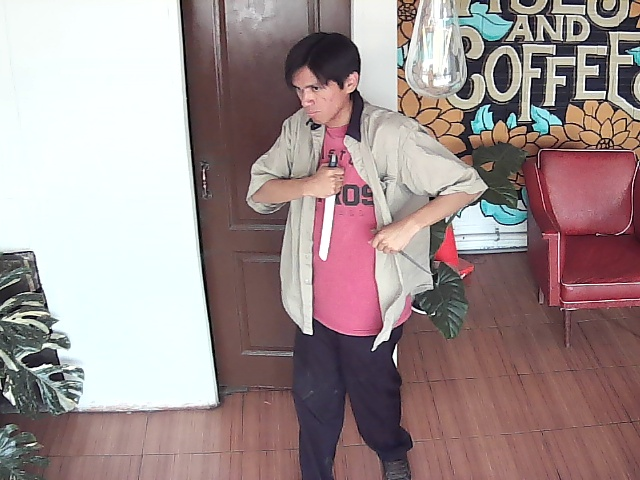cuchillo: (310, 139, 350, 267)
